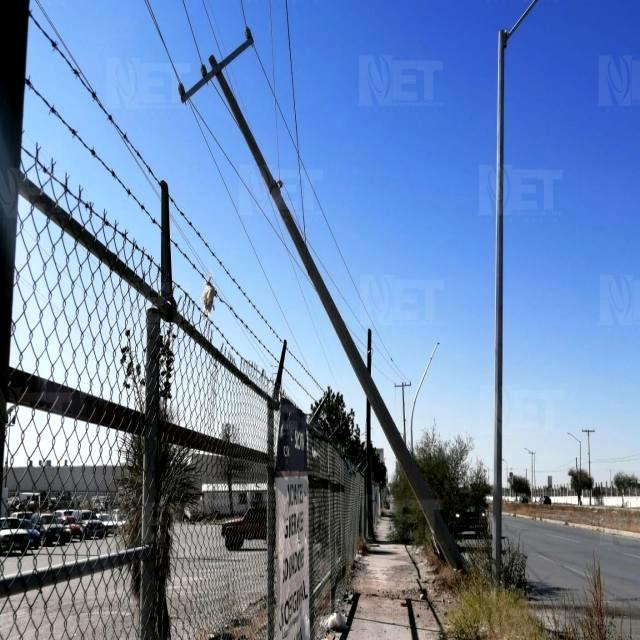Broken Pole: (179, 15, 463, 580)
